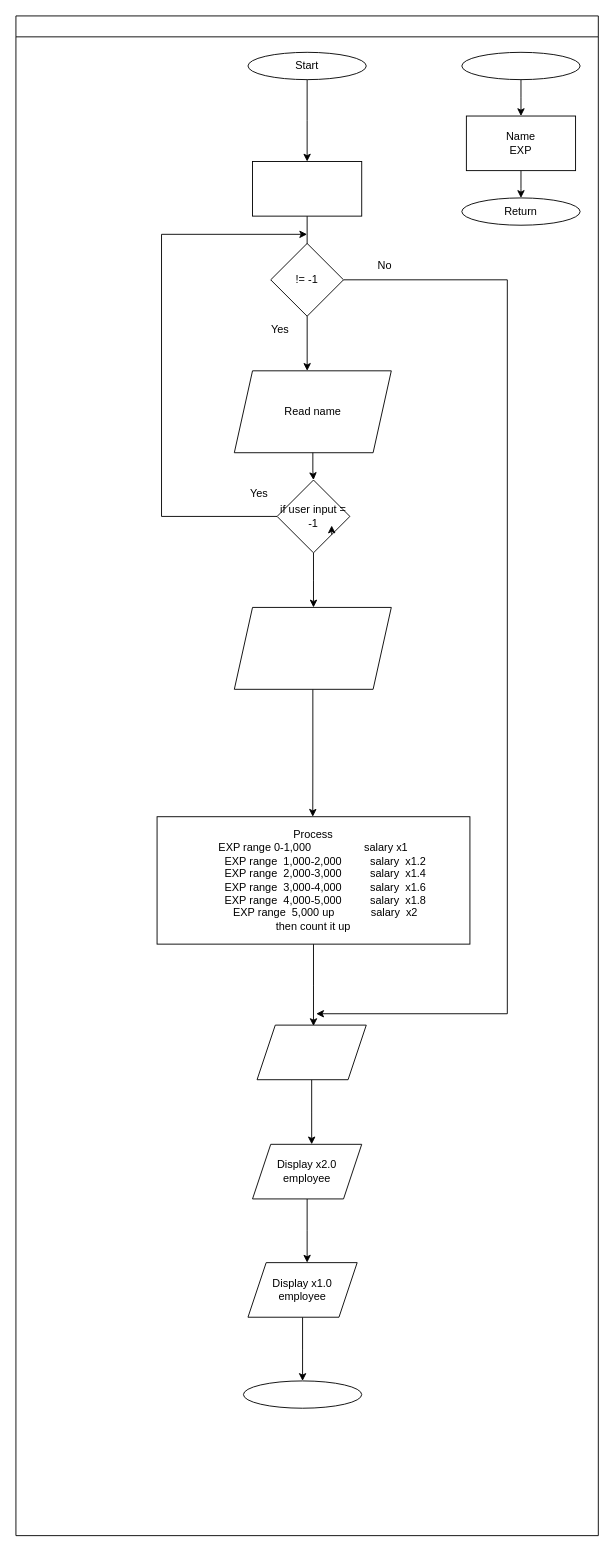
The diagram is 614 pixels wide and 1552 high, and some of its shapes have lost their labels. Here are the shapes that lost their labels. From the top down, the centre of each, then its label:
(x=520, y=65): struct Employee
(x=307, y=188): Declare employees is struct Employee
(x=312, y=648): Read Experience
(x=311, y=1052): Display each count of employee that get multiply salary
(x=302, y=1394): End
